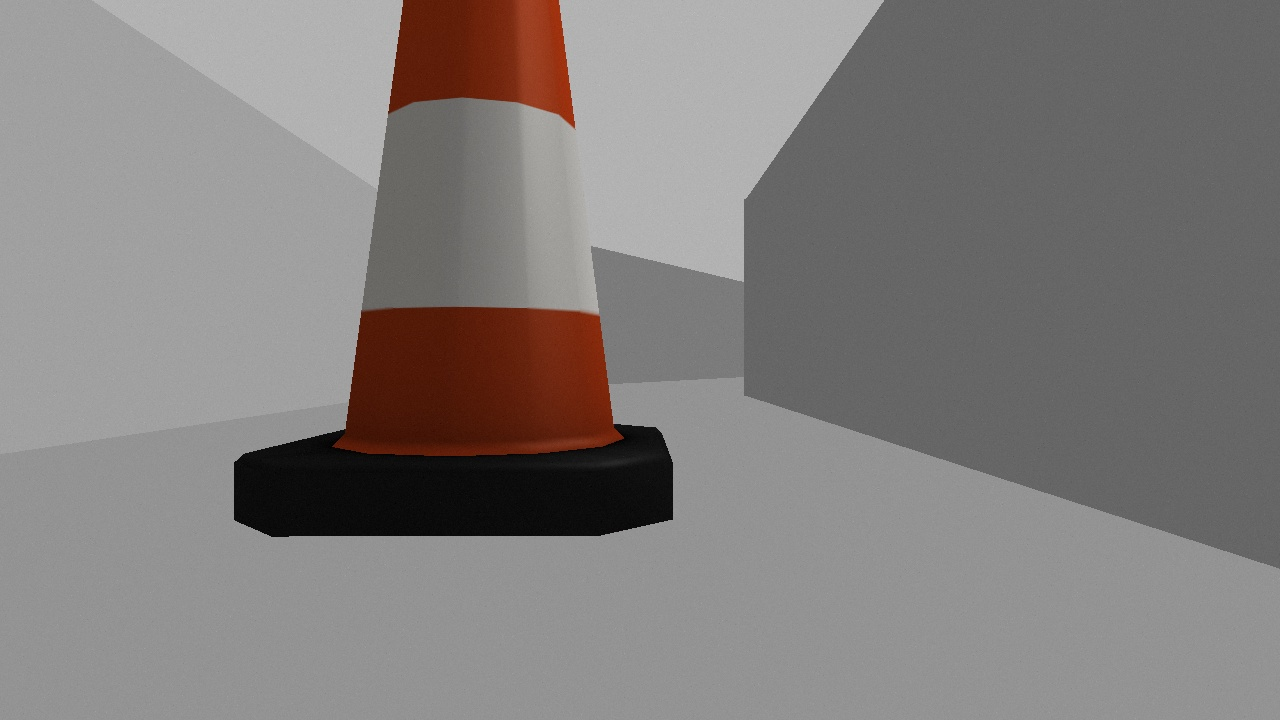barricade: (236, 1, 674, 538)
